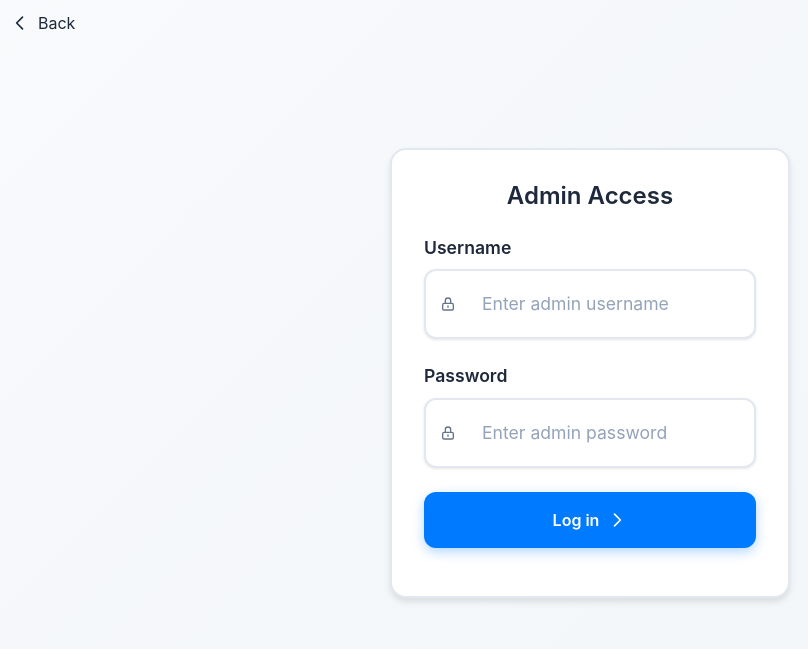
Test: AdminLogin & AdminDashboard › AdminLogin prevents duplicate submits while in flight and handles errors cleanly
The image size is (808, 649).
Later steps or results of the test are not shown.
Empty validation
Click the button "Log in": (590, 520) 424,492 -> 756,548
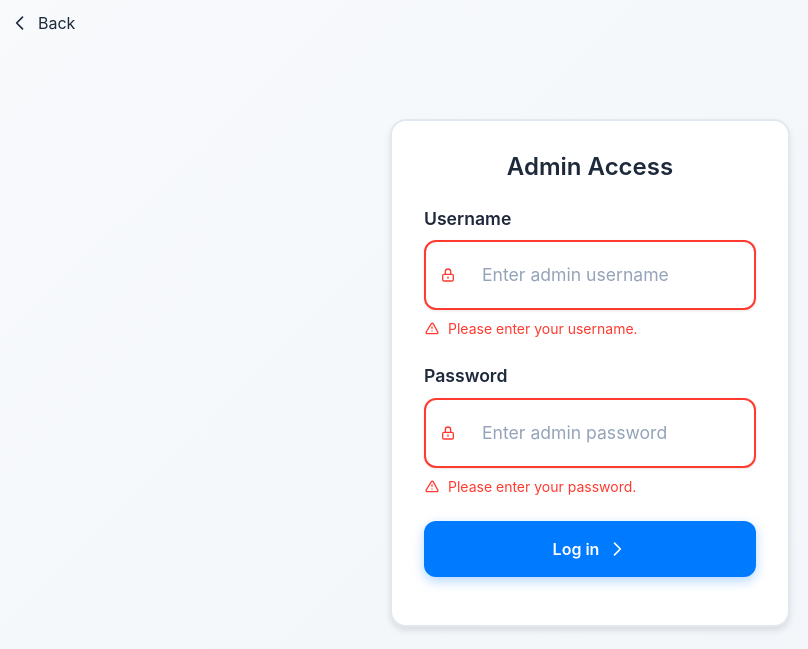
Now the text "Please enter your username." is shown, box 448,318 -> 638,339
Now the text "Please enter your password." is shown, box 448,476 -> 636,497
